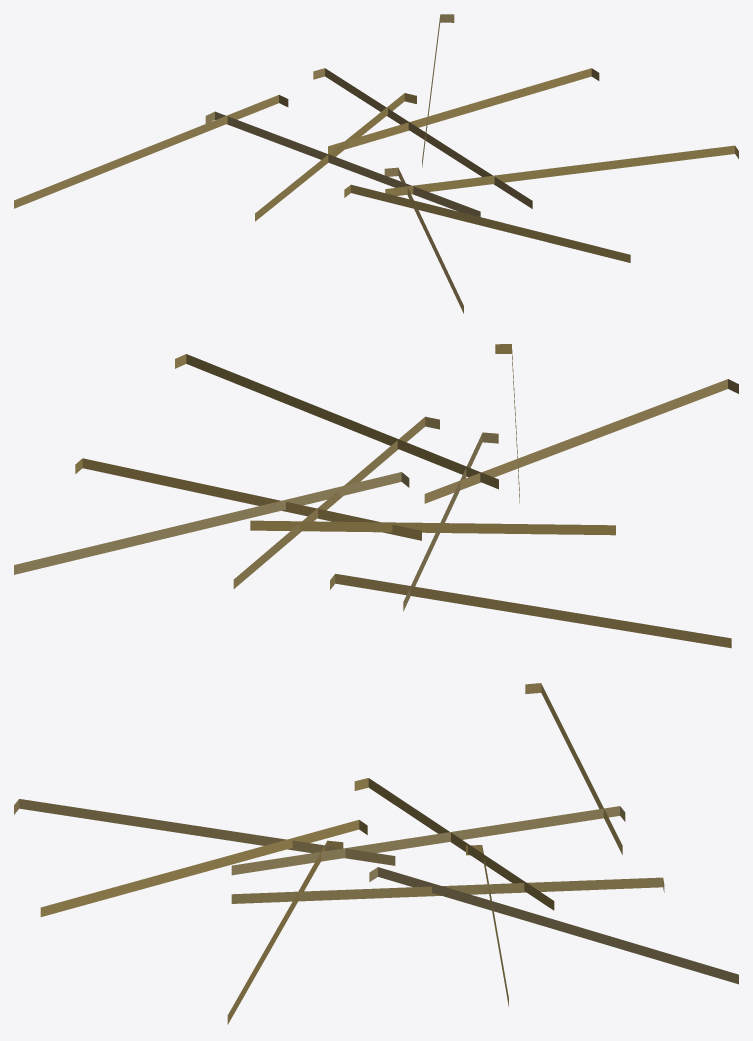
File: straw.glb
3 renders of one model, top to bottom at view 1: azimuth 30°, elevation 25°; view 2: azimuth 150°, elevation 25°; view 3: azimuth 270°, elevation 25°, orthographic. The views are drawn at different scales.
Visible parts, largest first — view 1: straw; view 2: straw; view 3: straw.
Boxes of the visible parts, <box> form: straw: <box>14,14,738,313</box>; straw: <box>14,344,738,648</box>; straw: <box>14,683,738,1024</box>.
Bounding box in the file's own units: 0.591 × 0.0154 × 0.5354.
